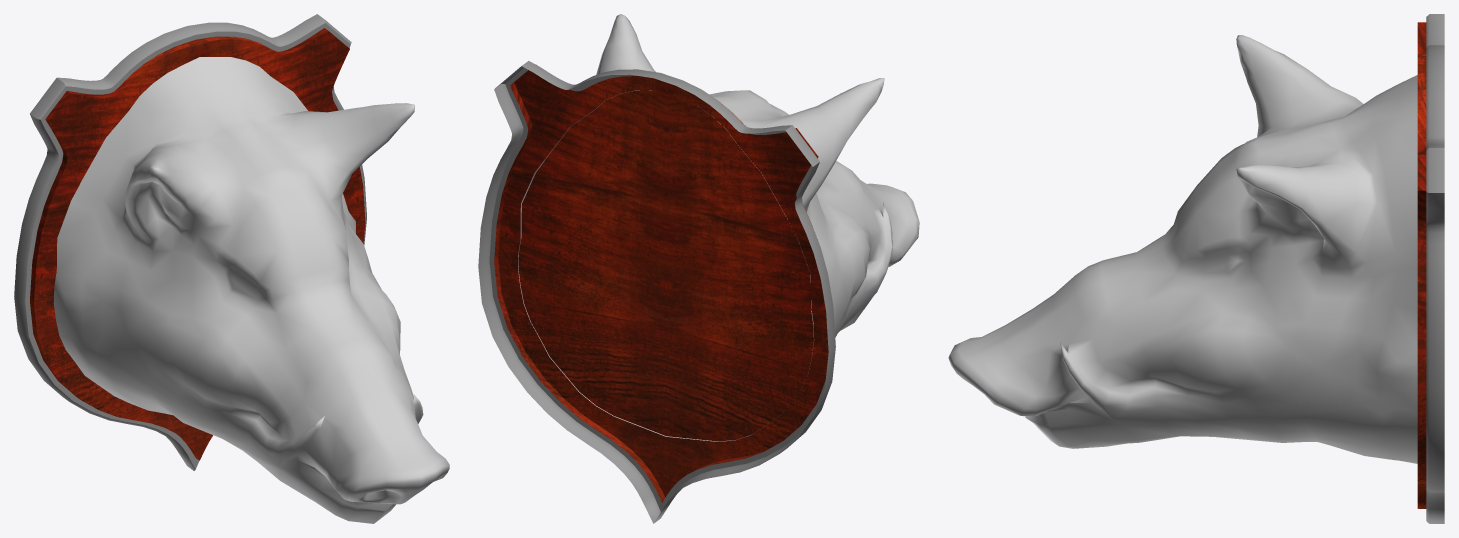
Rendered from BoarHead.FBX.
3 renders of one model, left to right at view 1: azimuth 30°, elevation 25°; view 2: azimuth 150°, elevation 25°; view 3: azimuth 270°, elevation 25°, orthographic. The views are drawn at different scales.
Visible parts, largest first — view 1: BoarHead, Support; view 2: Support, BoarHead; view 3: BoarHead, Support.
Part boxes in pixels (x1,y1,x2,y2): BoarHead: (53, 57, 449, 523); Support: (14, 14, 366, 470); Support: (478, 61, 835, 523); BoarHead: (518, 14, 919, 441); BoarHead: (948, 35, 1417, 463); Support: (1417, 14, 1444, 523).
Bounding box in the file's own units: 38 × 46.21 × 44.8.
